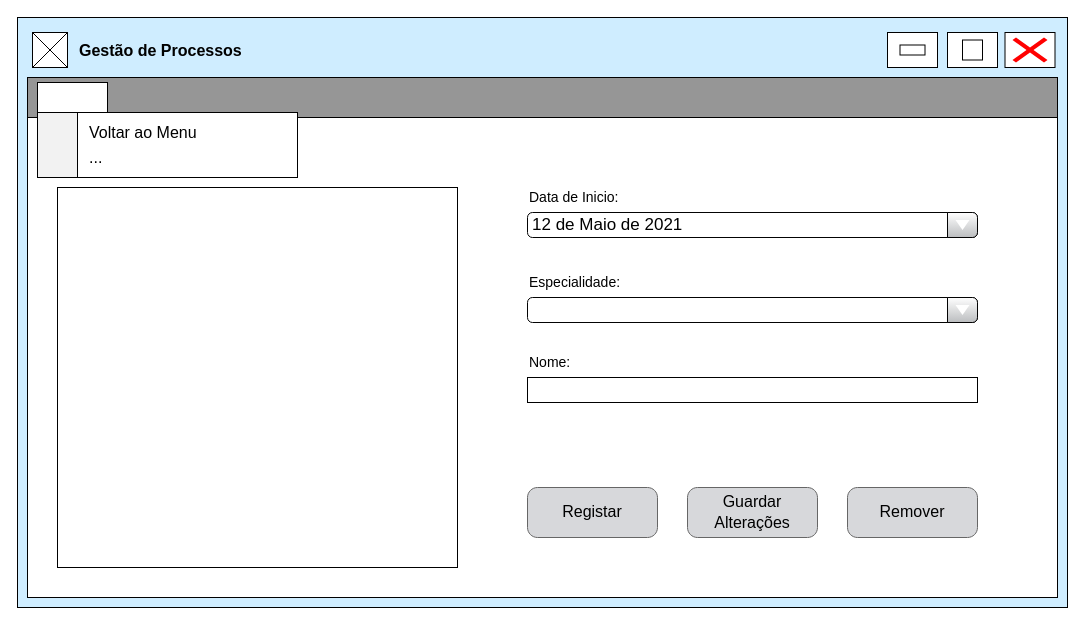
Image size: 1085x625. Some labels were removed from this diagram. Each missing label, with the centre of its shape:
"ListBox Processos" goes at point (257, 377).
"Menu" goes at point (72, 97).
